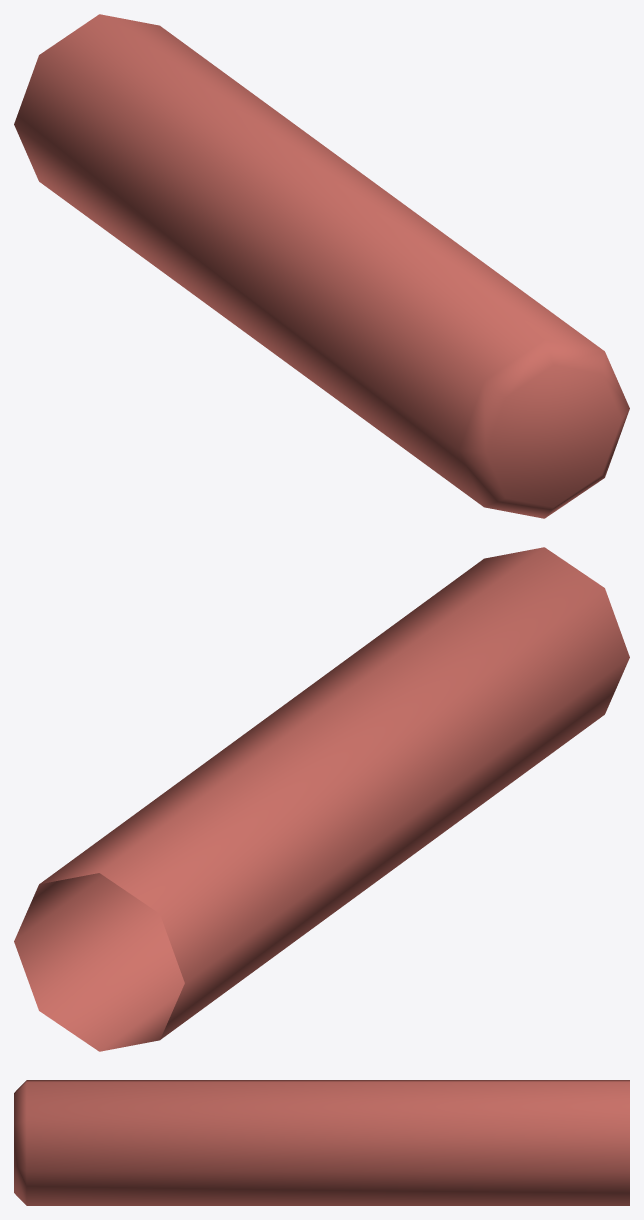
The model's file is SM_Obstacle.fbx.
3 renders of one model, top to bottom at view 1: azimuth 30°, elevation 25°; view 2: azimuth 150°, elevation 25°; view 3: azimuth 270°, elevation 25°, orthographic. The views are drawn at different scales.
Visible parts, largest first — view 1: SM_Obstacle; view 2: SM_Obstacle; view 3: SM_Obstacle.
Boxes of the visible parts, x1,y1,x2,y2 form: SM_Obstacle: (14, 14, 629, 518); SM_Obstacle: (14, 547, 629, 1051); SM_Obstacle: (14, 1080, 629, 1205).
Size of the model in its own units: 0.1537 by 0.1537 by 0.7077.
